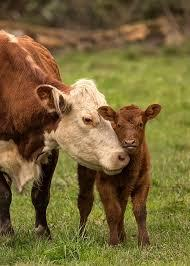cow: (0, 31, 129, 242), (77, 104, 162, 246)
